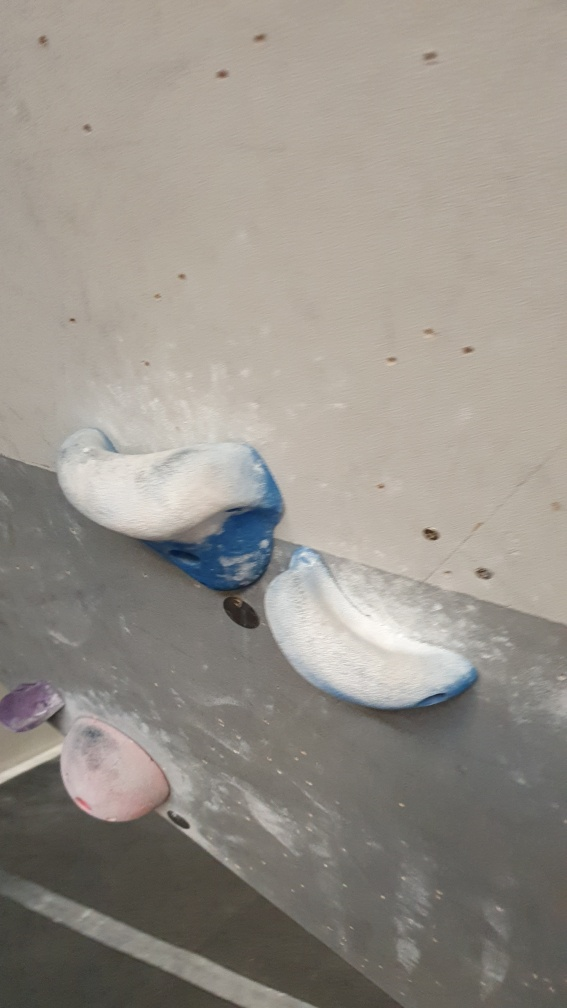Hand Start: (217, 590, 261, 637), (160, 809, 199, 831)
Jug: (51, 417, 286, 604), (263, 548, 479, 716)
Sloper: (58, 718, 170, 820)
